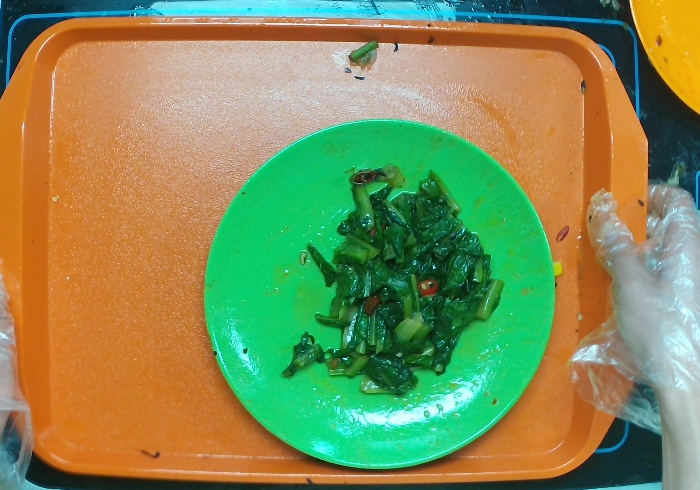HZYJPL-Lv_Se_Yuan_Pan: (200, 116, 556, 472)
